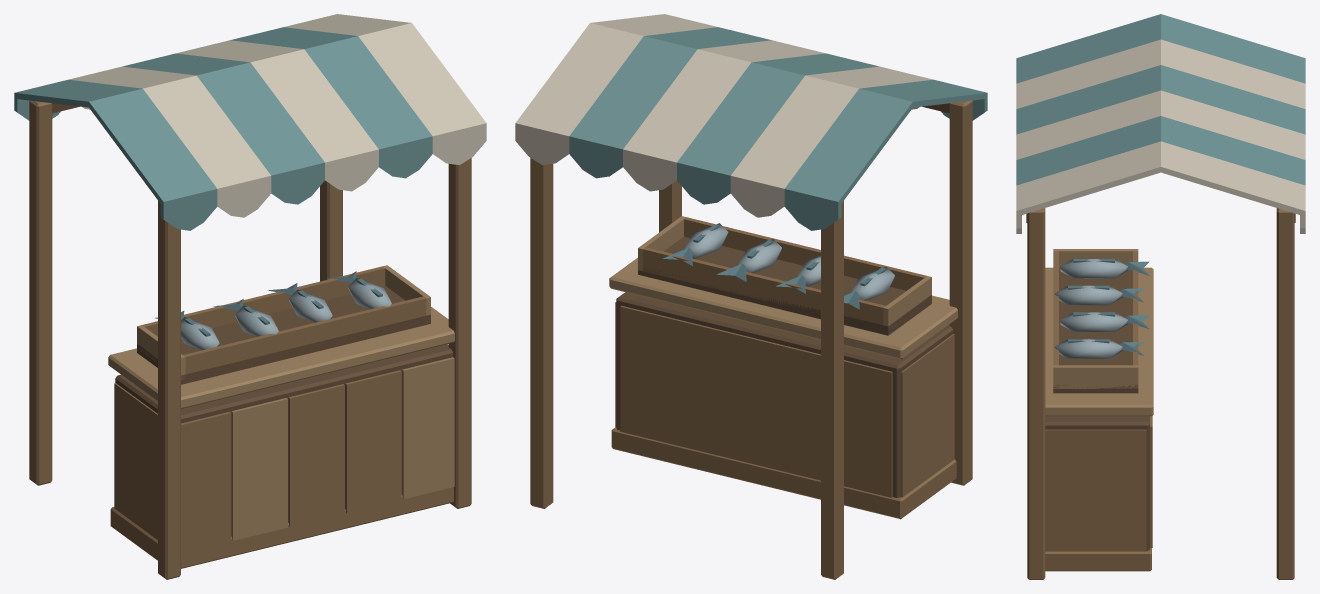
Rendered from stall_fish.glb.
3 renders of one model, left to right at view 1: azimuth 30°, elevation 25°; view 2: azimuth 150°, elevation 25°; view 3: azimuth 270°, elevation 25°, orthographic. The views are drawn at different scales.
Visible parts, largest first — view 1: stall_fish; view 2: stall_fish; view 3: stall_fish.
Part boxes in pixels (x1,y1,x2,y2): stall_fish: [14, 14, 486, 579]; stall_fish: [515, 14, 987, 579]; stall_fish: [1016, 14, 1305, 579].
Bounding box in the file's own units: 2 × 2.55 × 1.6.
